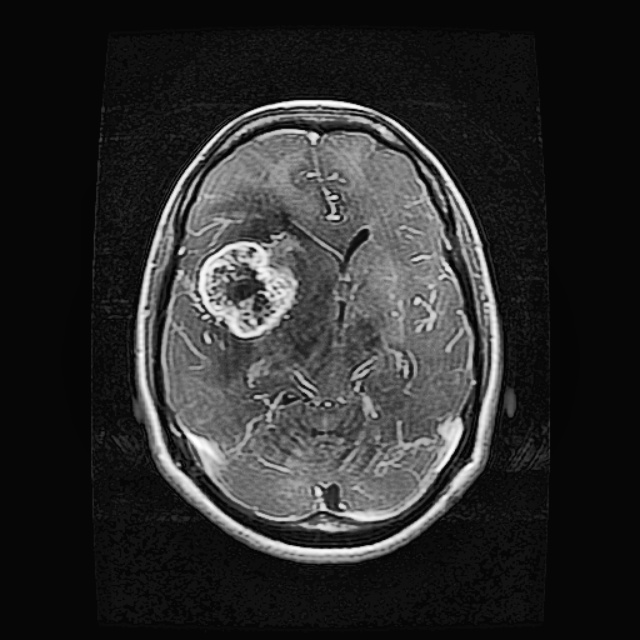Glioma: (195, 229, 304, 339)
